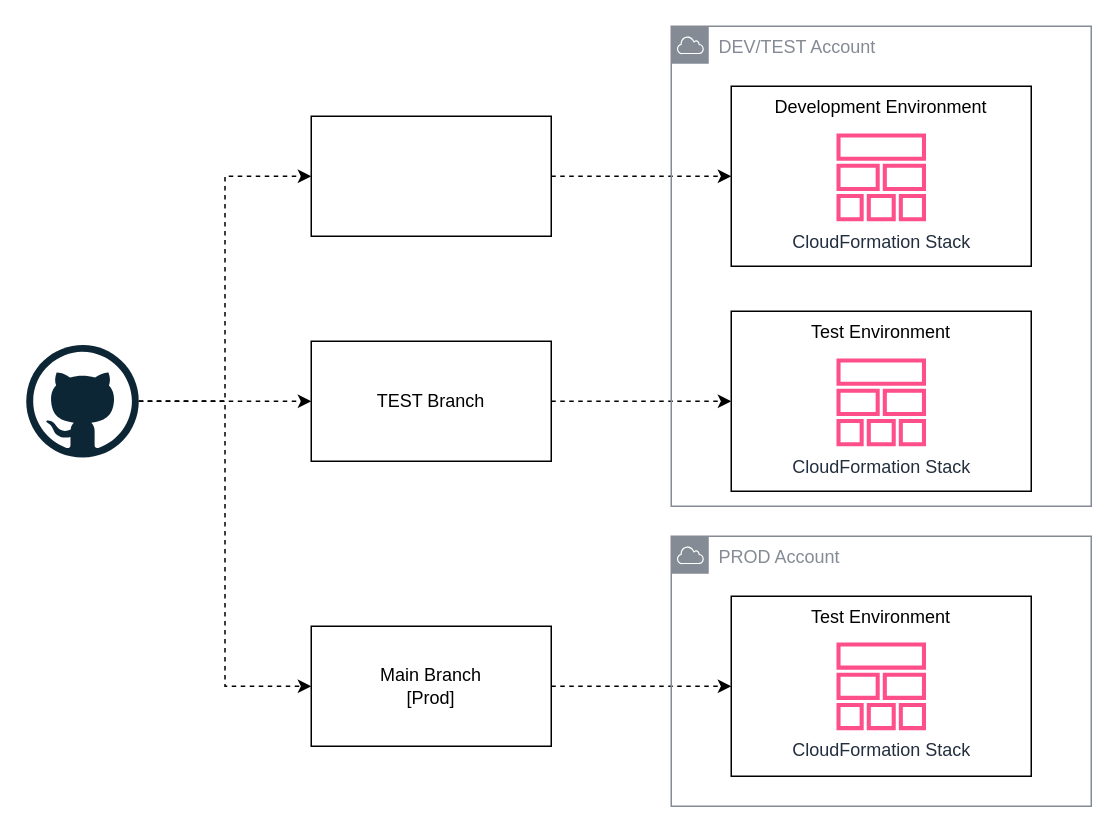
Image size: 1118x833. Some labels were removed from this diagram. The shapes that lost their labels are listed below. From the top down, each one's centre as x and y in pixels, then its label:
At point (430, 175): "DEVELOP Branch".
At point (82, 401): "GitHub Repo".
